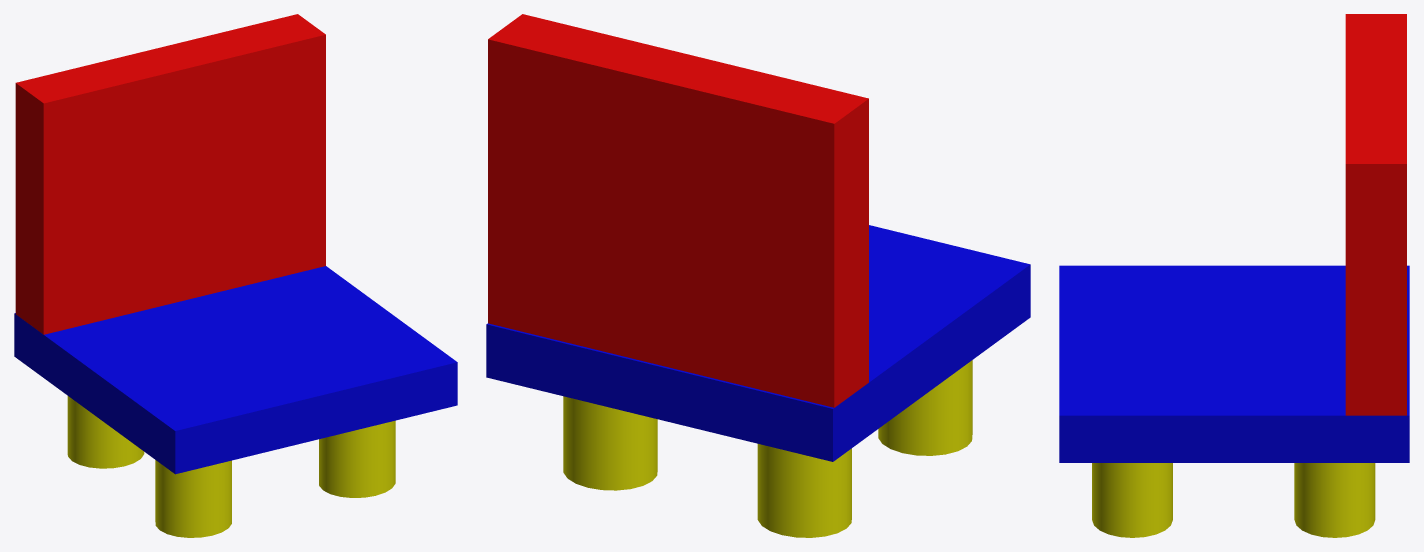
File: chair.fbx
3 views of the same model, side by side, from view 1: azimuth 30°, elevation 25°; view 2: azimuth 150°, elevation 25°; view 3: azimuth 270°, elevation 25° (orthographic). The views are drawn at different scales.
Visible parts, largest first — view 1: pasted__pasted__pCylinder1; view 2: pasted__pasted__pCylinder1; view 3: pasted__pasted__pCylinder1.
Part boxes in pixels (left/top/right/bottom): pasted__pasted__pCylinder1: left=14, top=14, right=457, bottom=537; pasted__pasted__pCylinder1: left=486, top=14, right=1030, bottom=537; pasted__pasted__pCylinder1: left=1059, top=14, right=1409, bottom=537.
Bounding box in the file's own units: 1.15 × 1.4 × 1.14.
